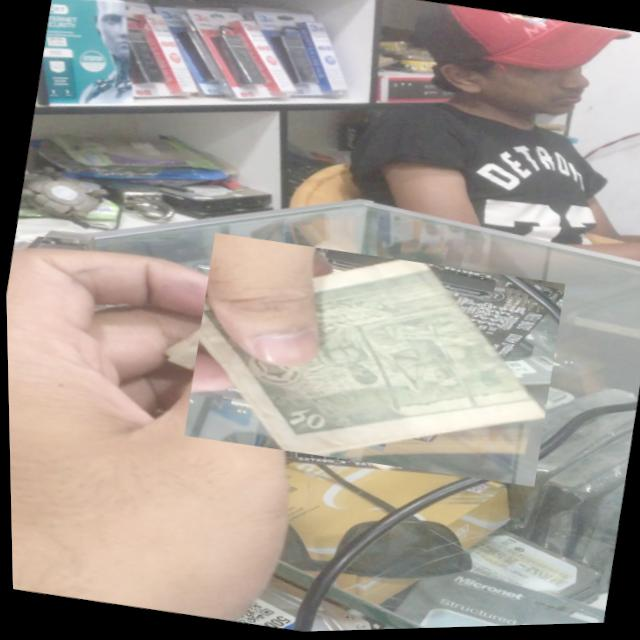Taka: (178, 226, 567, 497)
